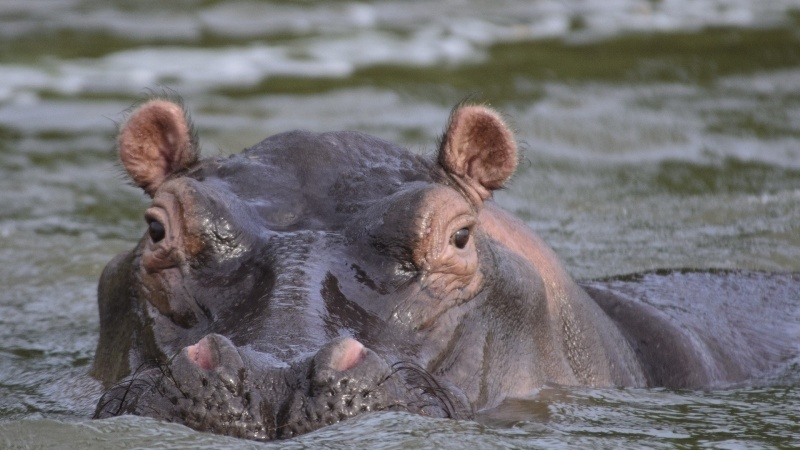hipopotamo: (74, 80, 800, 448)
